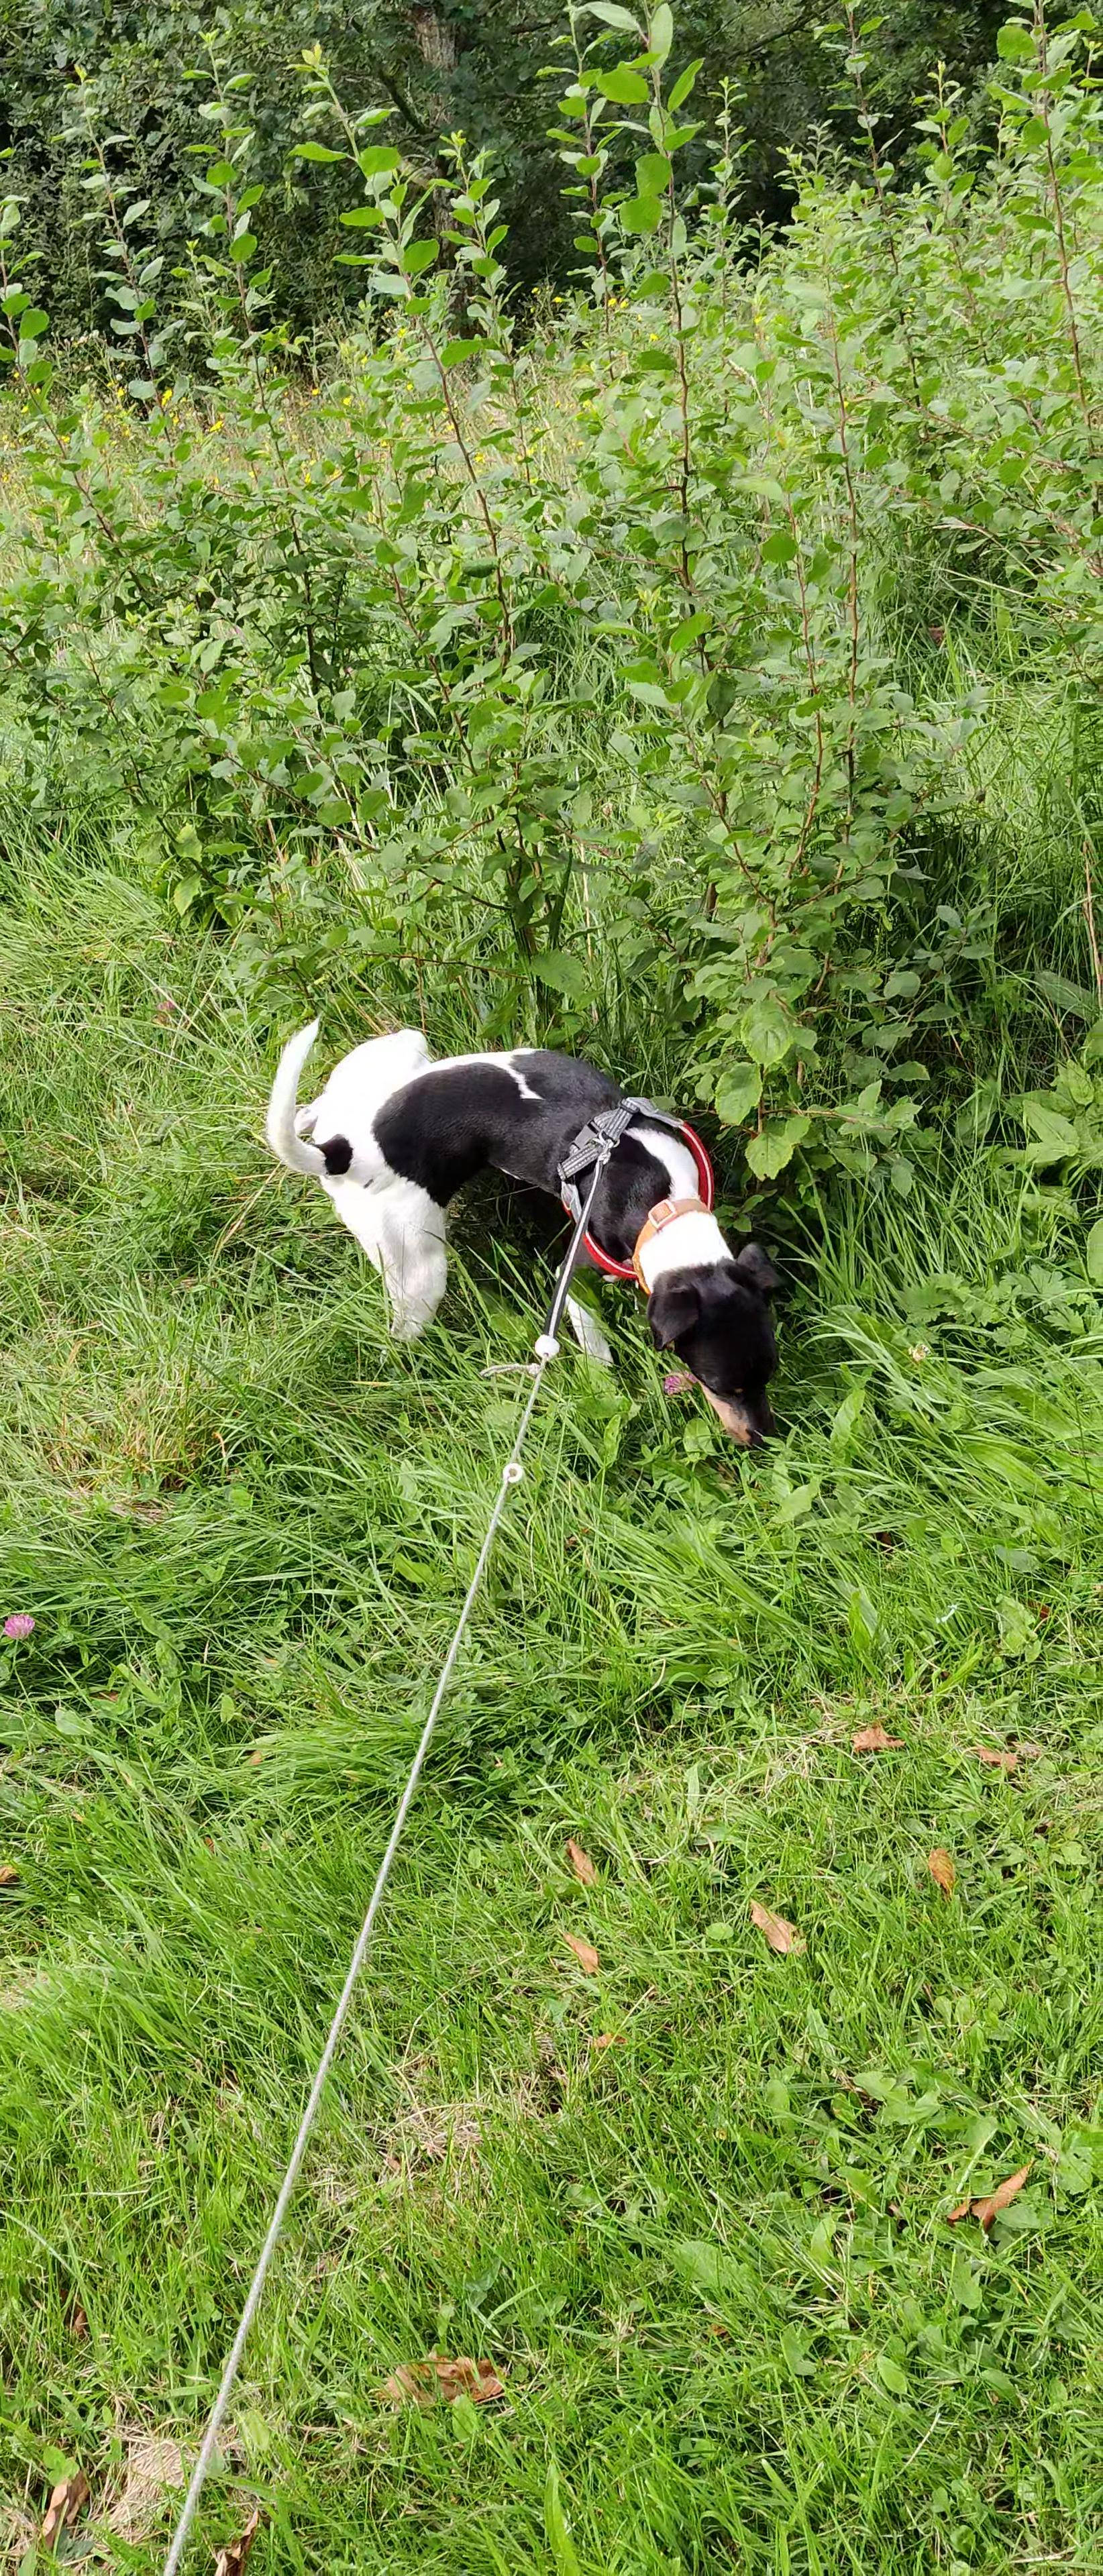Dog: (240, 992, 802, 1460)
